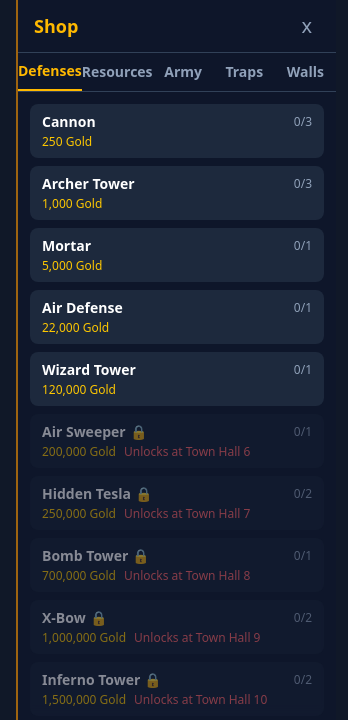
Test: ShopPanel › shows the placed trap count alongside the max count
Click the button "Traps" at [244, 72], box left=214, top=53, right=275, bottom=91
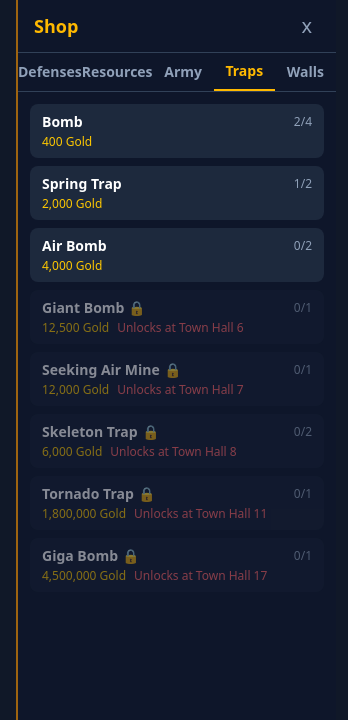
Expected: the text "2/4" is shown, left=294, top=114, right=312, bottom=130
Expected: the text "1/2" is shown, left=294, top=176, right=312, bottom=192
